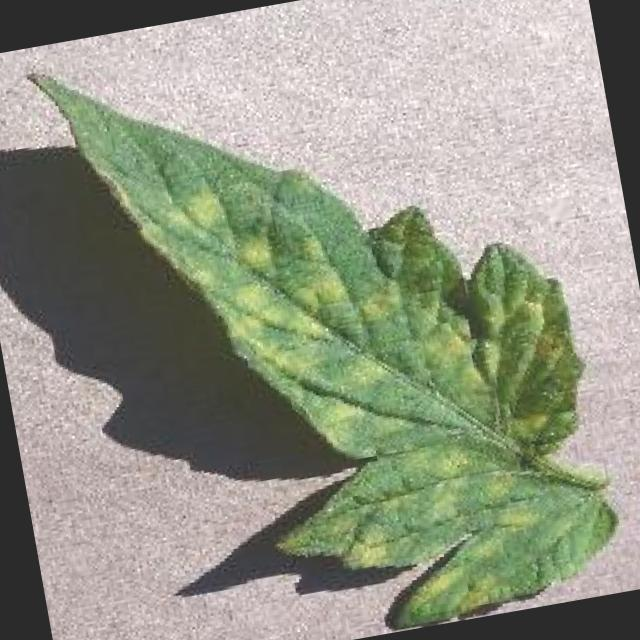leaf mold: (29, 72, 619, 624)
